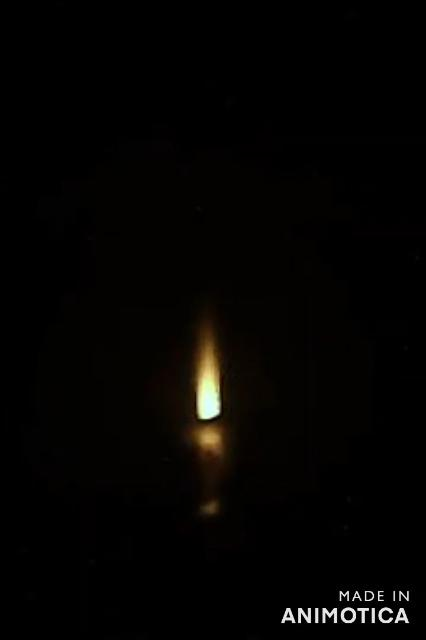burner flame: (192, 319, 226, 423)
